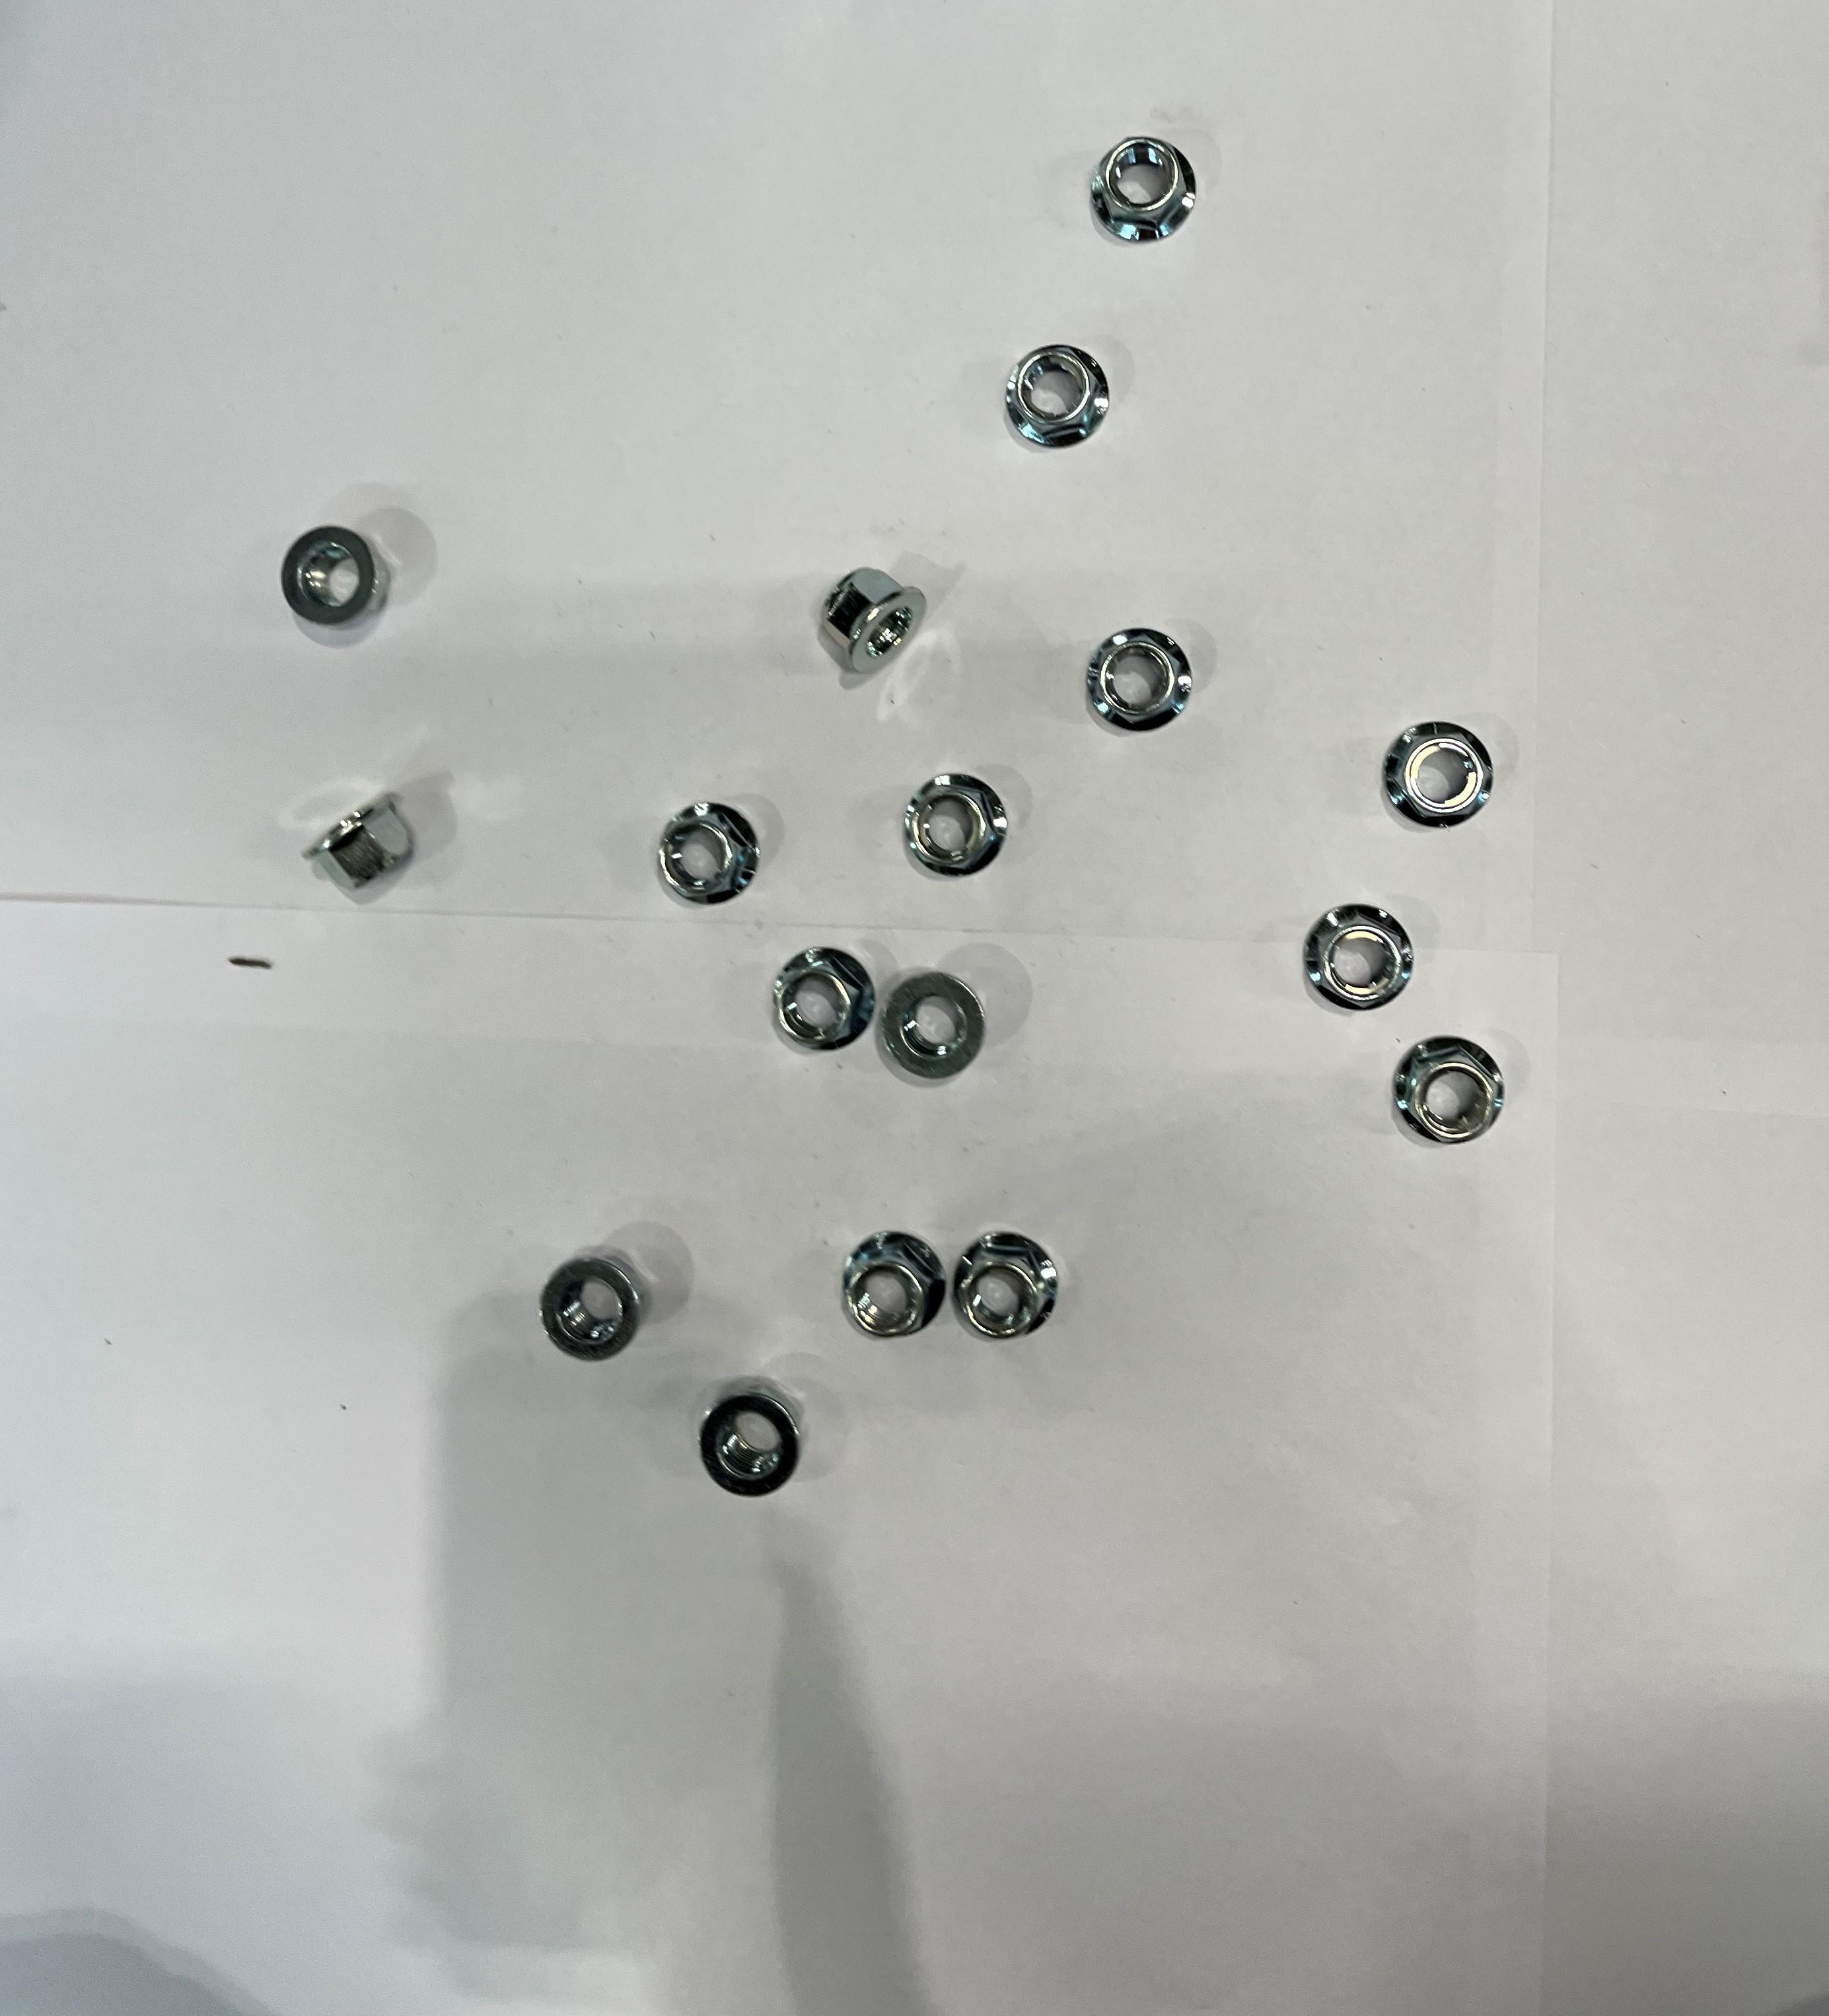Type B: (1394, 1036, 1508, 1147), (1004, 339, 1113, 455), (298, 788, 414, 897), (699, 1380, 806, 1498), (1090, 133, 1201, 246), (1383, 718, 1492, 832), (539, 1249, 648, 1363), (820, 567, 930, 674), (879, 971, 988, 1078), (841, 1231, 946, 1342), (1087, 627, 1194, 734), (951, 1233, 1057, 1342), (281, 525, 391, 629), (649, 804, 762, 904), (771, 945, 874, 1052), (1306, 906, 1413, 1010), (907, 776, 1011, 880)
